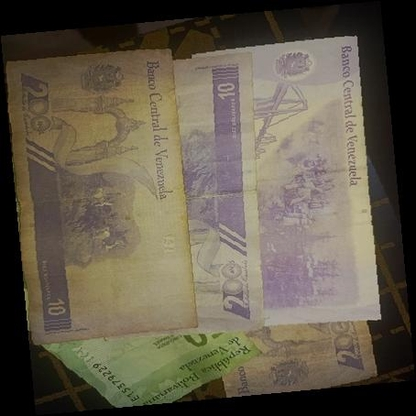fifty-front-vef: (40, 320, 263, 407)
ten-back-vef: (2, 38, 197, 342), (161, 53, 267, 329), (209, 309, 377, 399)
two_hundred-back-vef: (188, 34, 383, 324)
